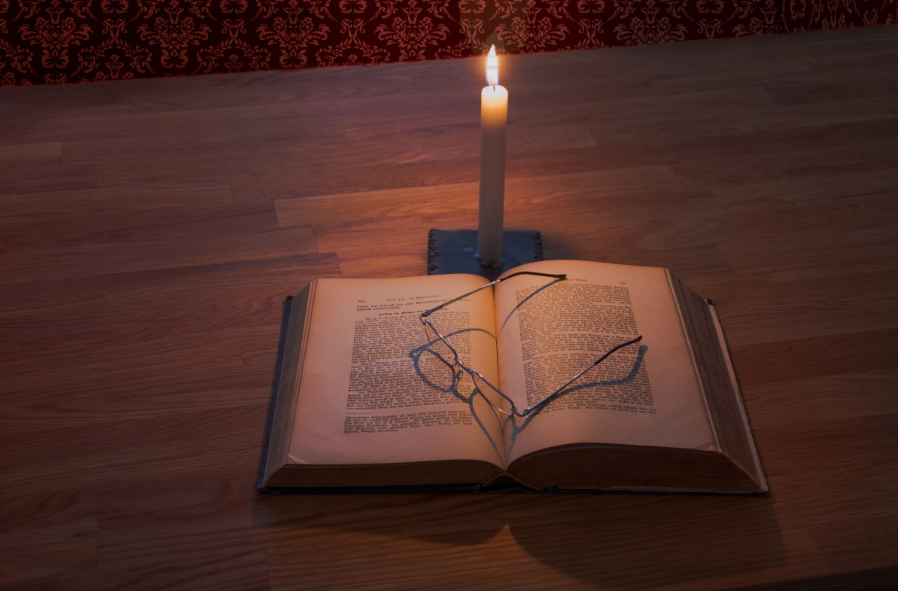book: (257, 268, 772, 500)
